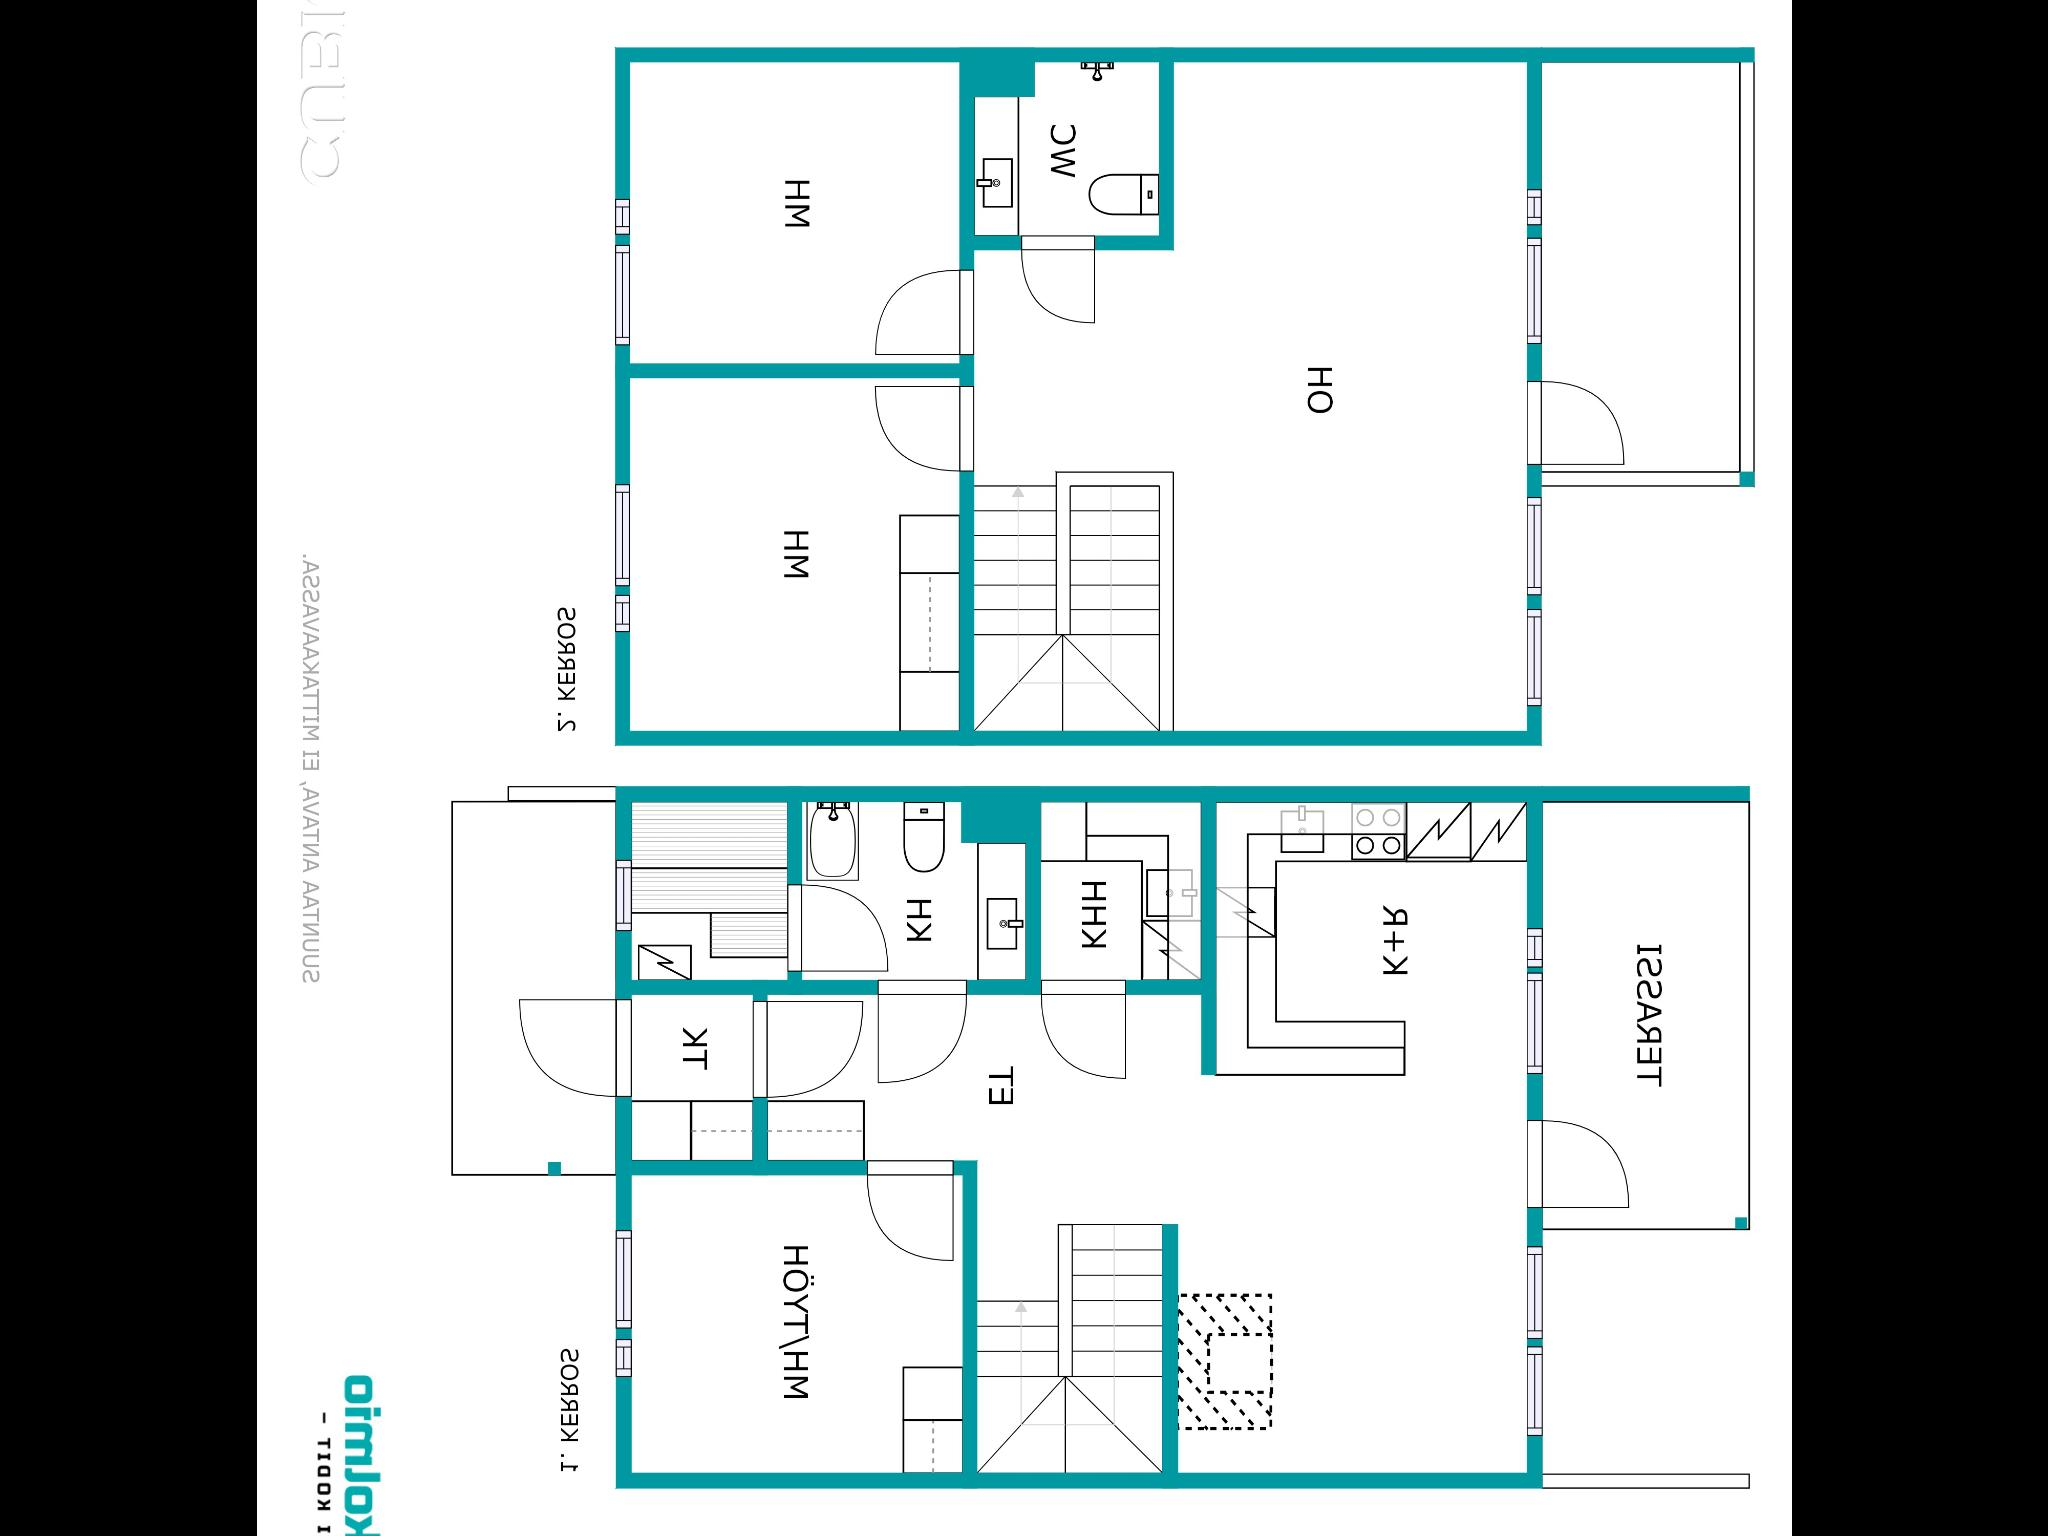door: (508, 989, 640, 1107), (751, 991, 866, 1110), (863, 261, 985, 366), (1521, 1115, 1637, 1223), (860, 379, 987, 478), (872, 973, 976, 1091), (779, 879, 895, 978), (1522, 366, 1629, 471), (869, 1155, 963, 1268), (1039, 978, 1135, 1084), (1021, 219, 1101, 332)
window: (1508, 231, 1550, 358), (1517, 597, 1559, 721), (605, 231, 642, 360), (606, 471, 643, 599), (1508, 963, 1546, 1081), (1514, 1247, 1561, 1342), (1519, 1333, 1553, 1452), (1514, 490, 1546, 613), (606, 1220, 639, 1339), (606, 847, 635, 941), (601, 187, 635, 245), (606, 1331, 639, 1391), (1514, 921, 1548, 978), (606, 589, 639, 644), (1514, 182, 1546, 236)
